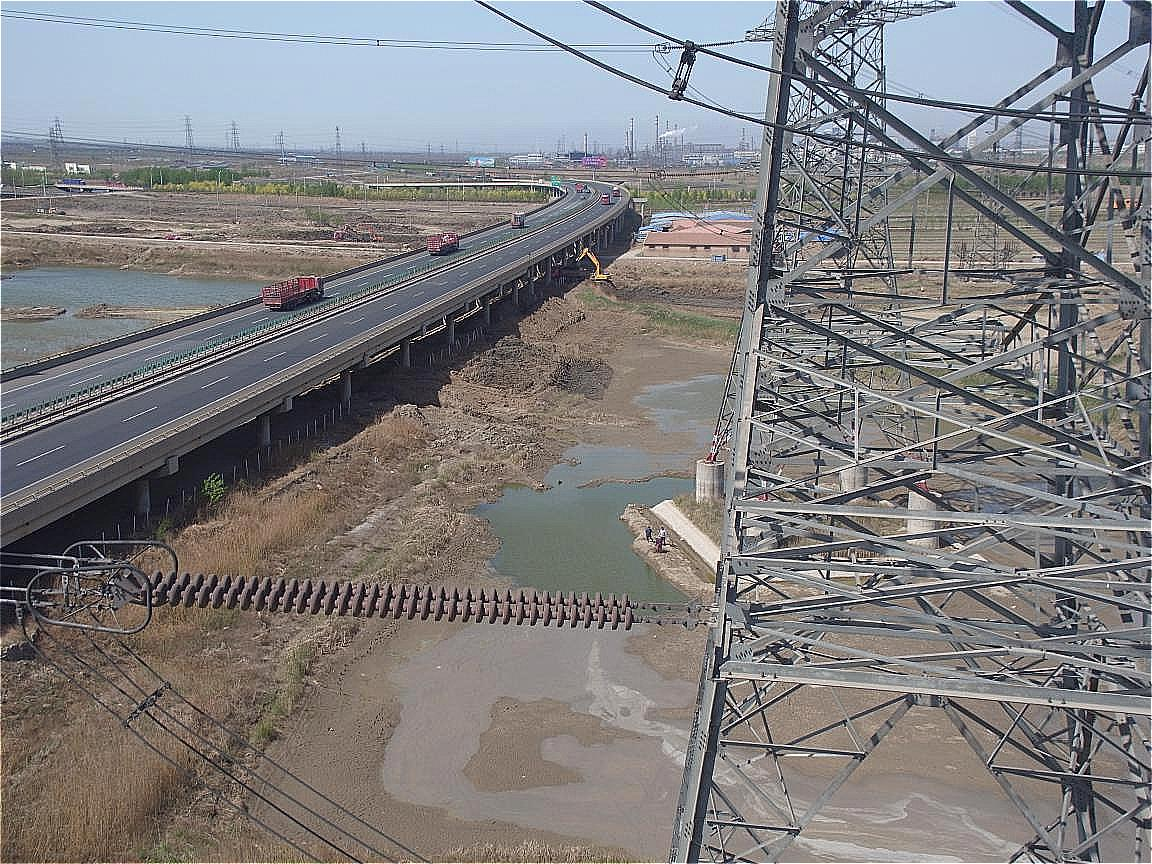insultor1: (117, 563, 650, 642)
